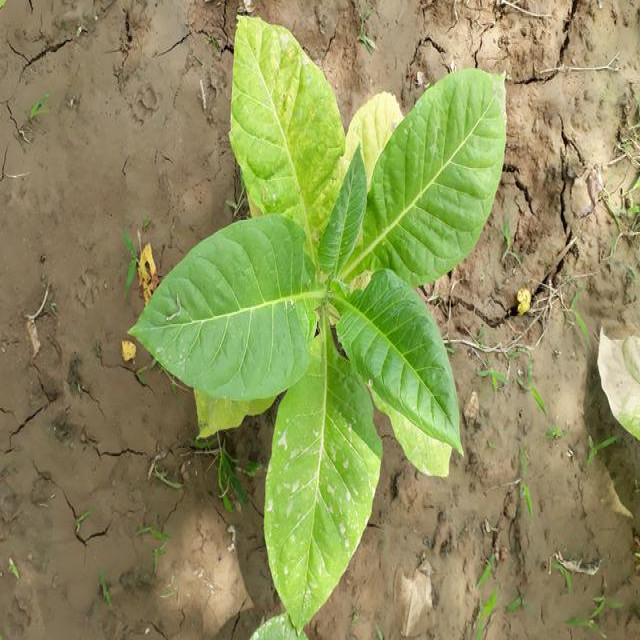crop: (128, 16, 510, 629)
